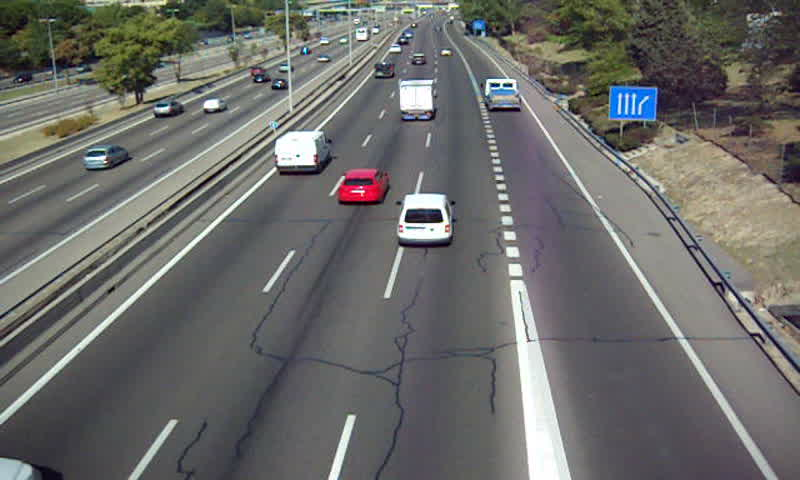car: (394, 192, 453, 244), (335, 169, 390, 204), (410, 52, 427, 67)
small-truck: (398, 79, 435, 120), (483, 77, 520, 111)
van: (275, 131, 329, 175), (372, 61, 395, 81)
